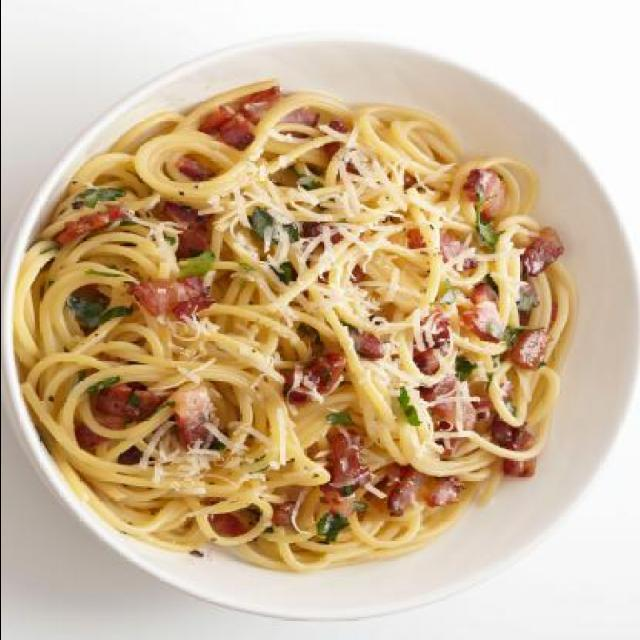Pasta with carbonara sauce: (11, 110, 592, 626)
